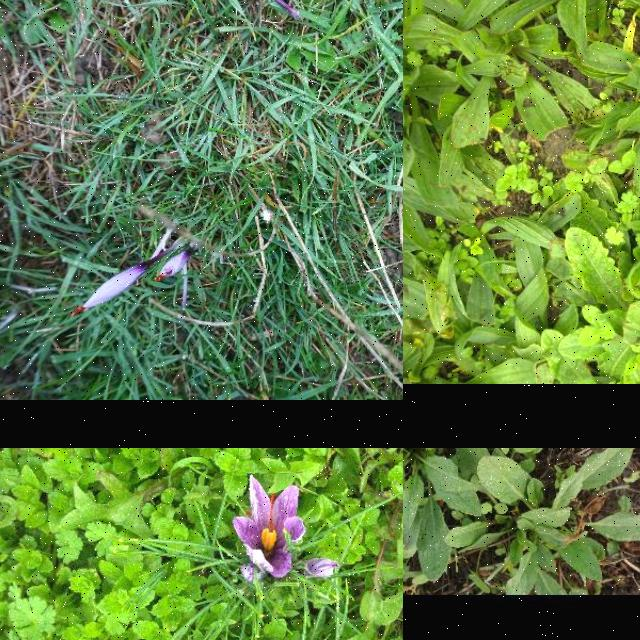flower: (234, 476, 306, 578), (74, 262, 150, 316), (154, 254, 192, 282), (306, 558, 339, 578), (240, 565, 264, 585)
